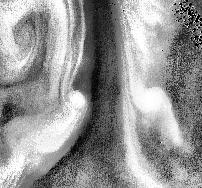CE: (10, 5, 55, 59)
